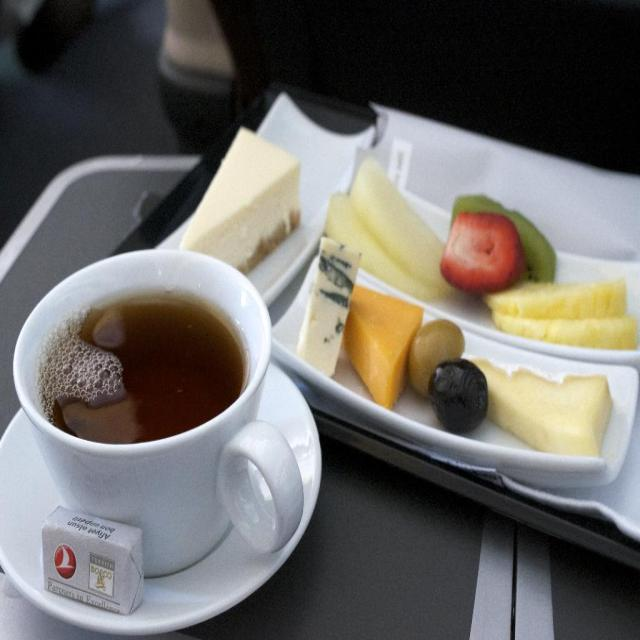Coffee: (40, 286, 252, 434), (36, 287, 250, 428)
Tea: (32, 290, 248, 452)
